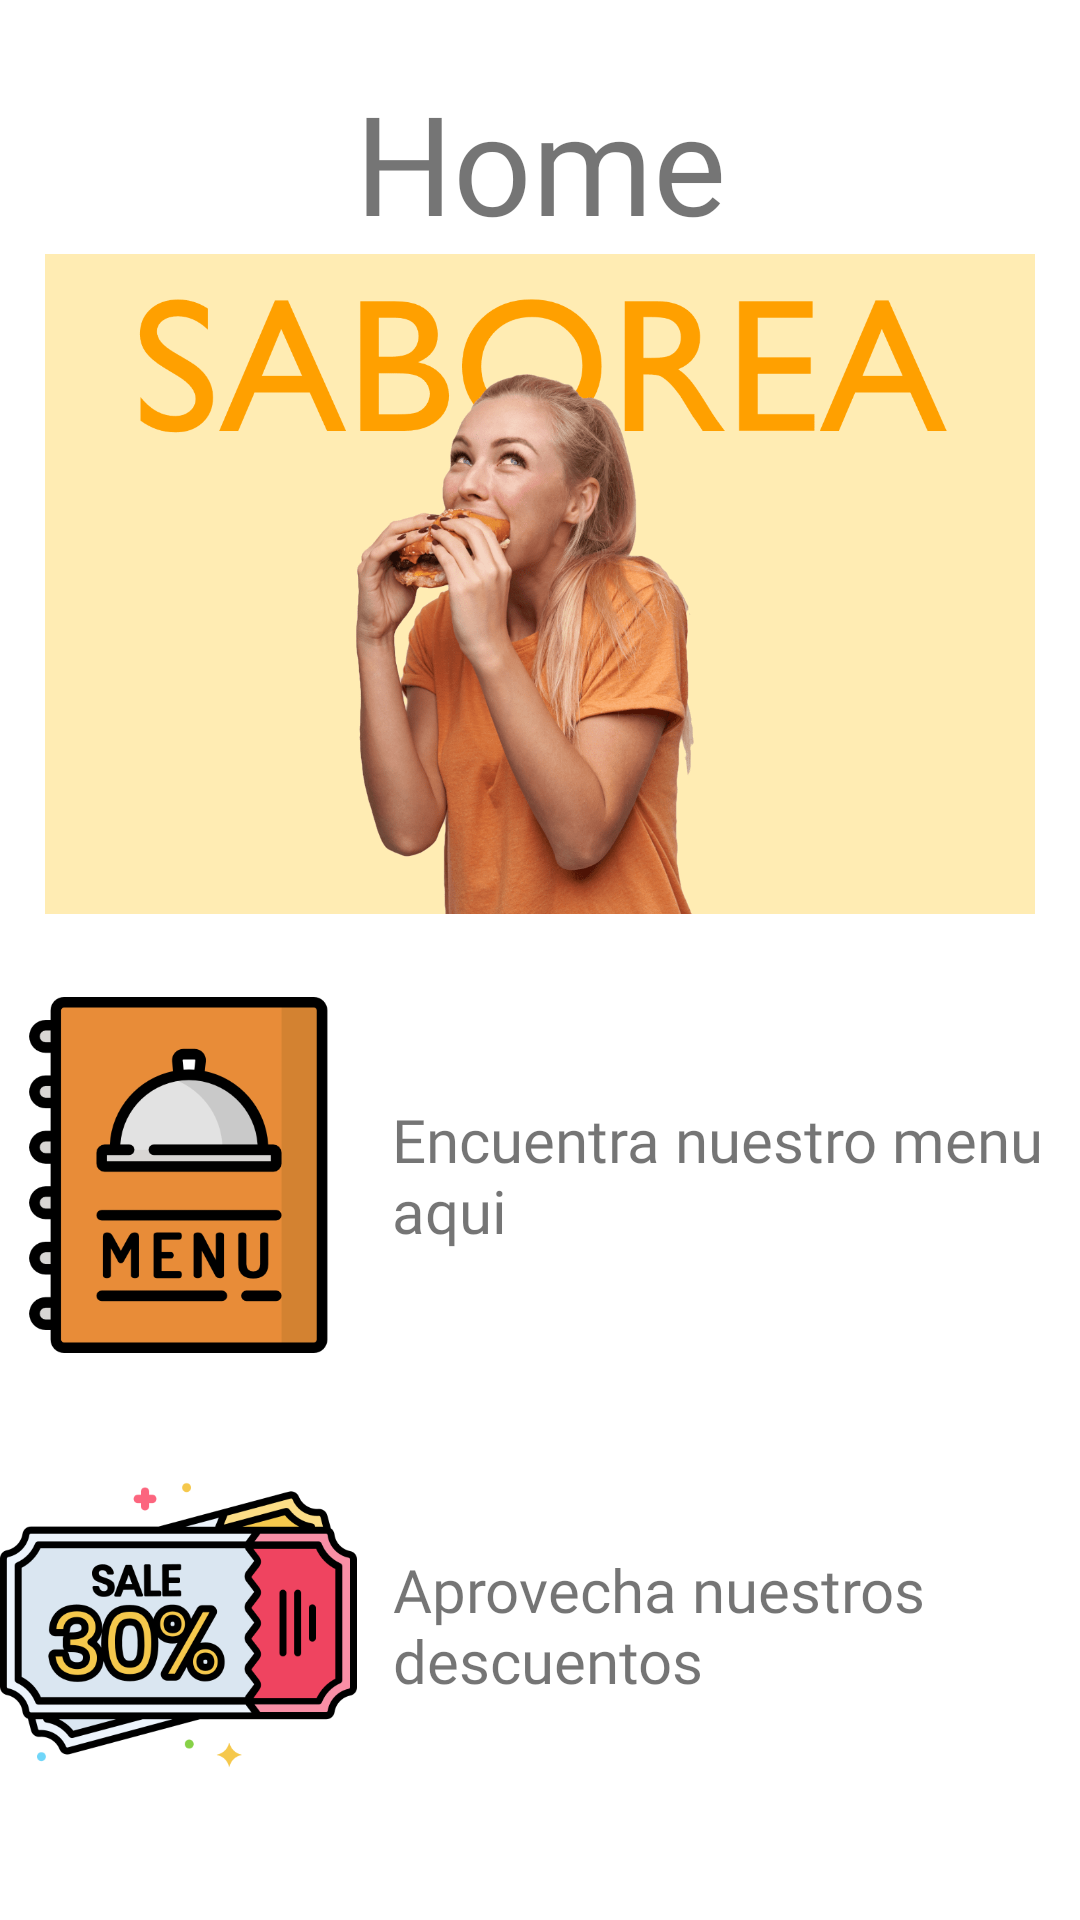

Where to tap for icons on this 1080×1920 app screen, as (x,y):
cupon: (178,1625)
